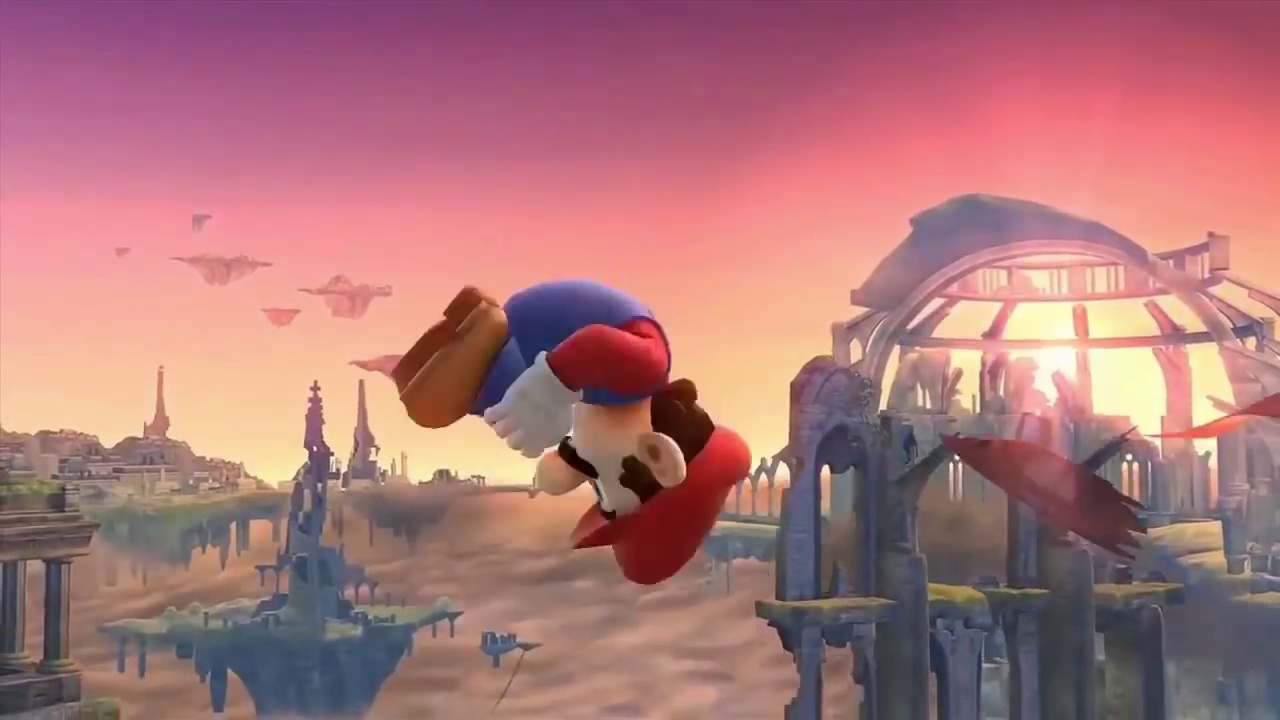Mario: (392, 283, 751, 585)
